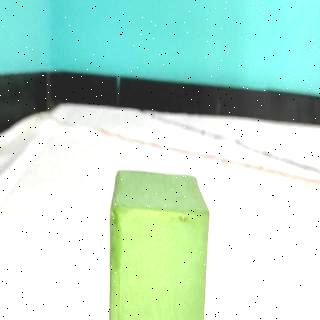greenbox: (105, 168, 214, 320)
